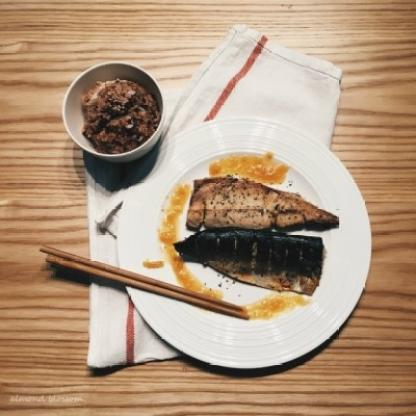Peixe: (168, 166, 338, 313)
